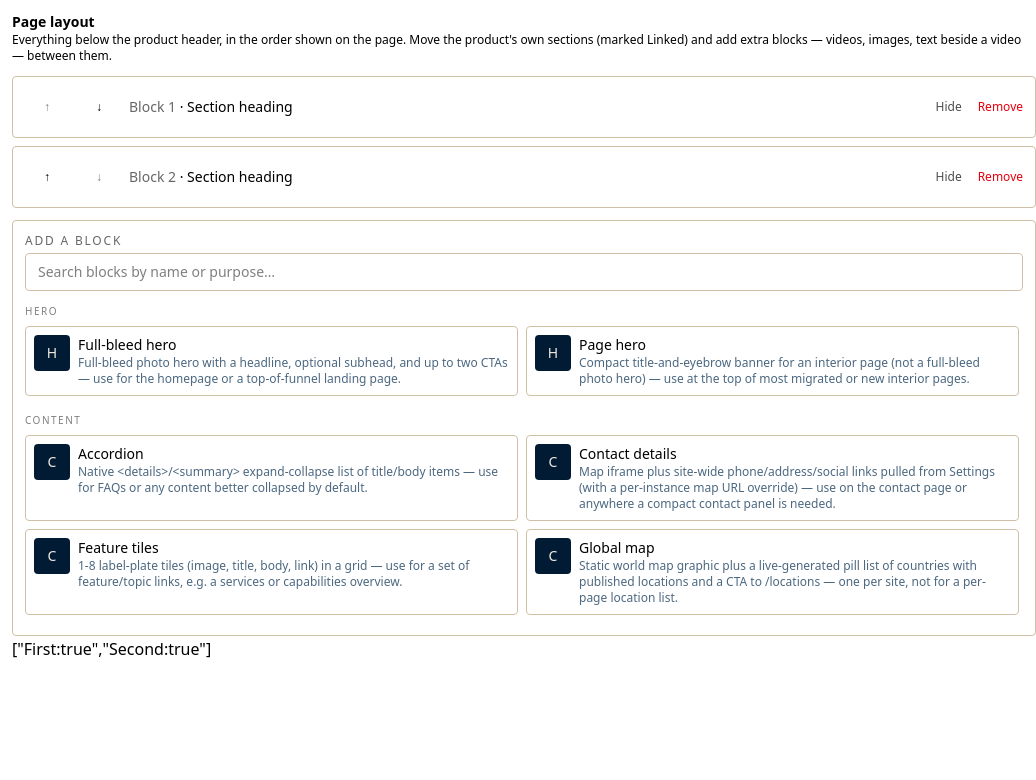
Test case: ProductBlocksField › lists the product's blocks and lets the editor hide, reorder and remove them
The width and height of the screenshot is (1036, 780).
Check: the number of list items is 2, box 12,76 -> 1035,138; 12,146 -> 1035,208
Step 1. Click the 1st button "Hide" → [949, 107], box 936,91 -> 962,123
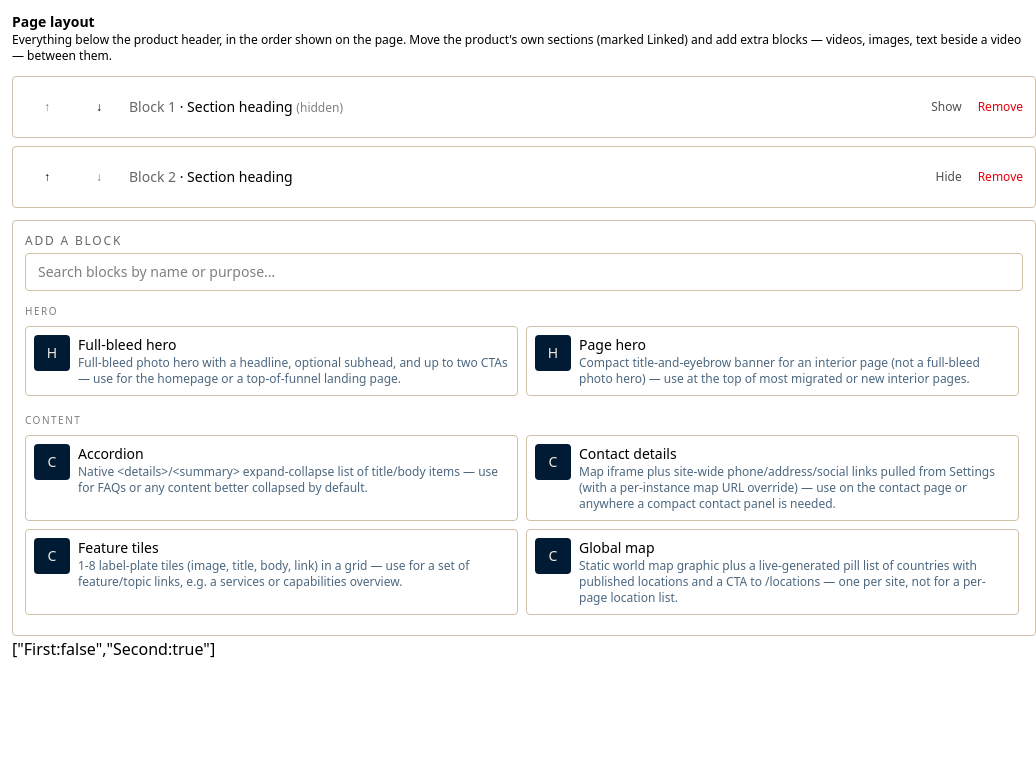
Check: the text with test id "types" shows "\"First:false\"", box 12,638 -> 215,660
Check: the text "(hidden)" is shown, box 296,99 -> 343,116
Step 2. Click the 1st button "↓" → [99, 107], box 77,85 -> 121,129
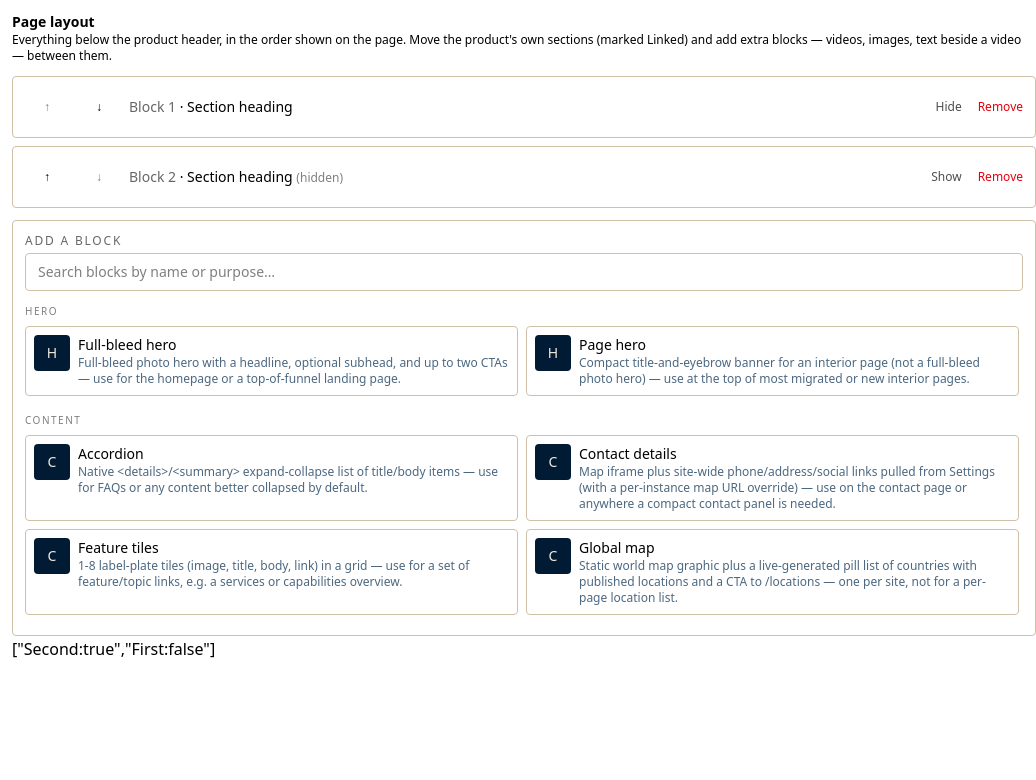
Check: the text with test id "types" reads "[\"Second:true\",\"First:false\"]", box 12,638 -> 215,660
Step 3. Click the 1st button "Remove" → [1000, 107], box 978,91 -> 1023,123
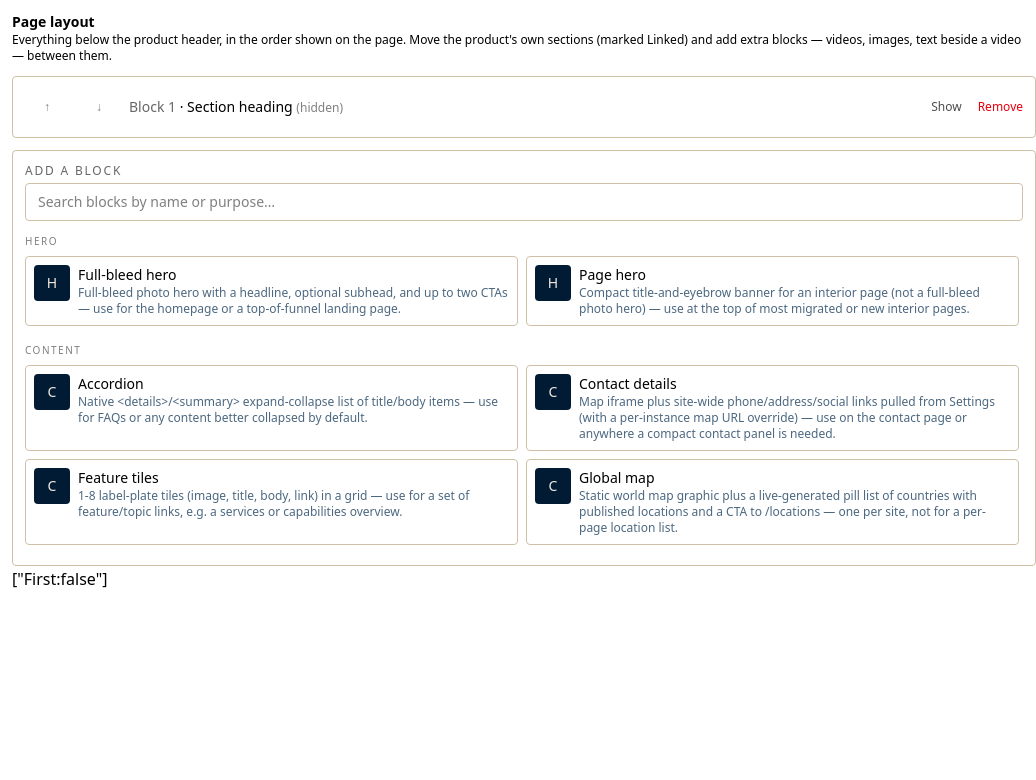
Check: the text with test id "types" reads "[\"First:false\"]", box 12,568 -> 108,590
